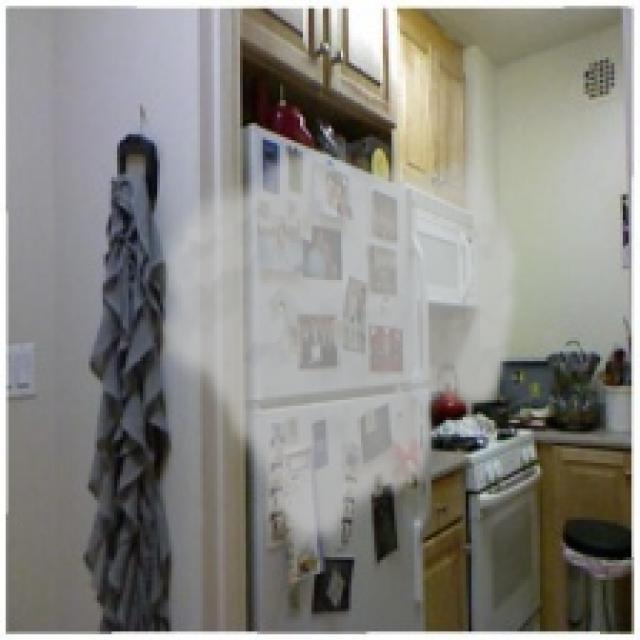Smoke: (148, 142, 526, 554)
